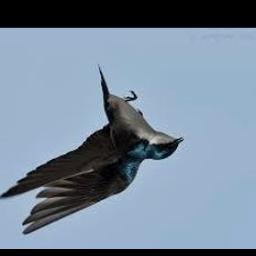Swallow: (0, 65, 182, 236)
